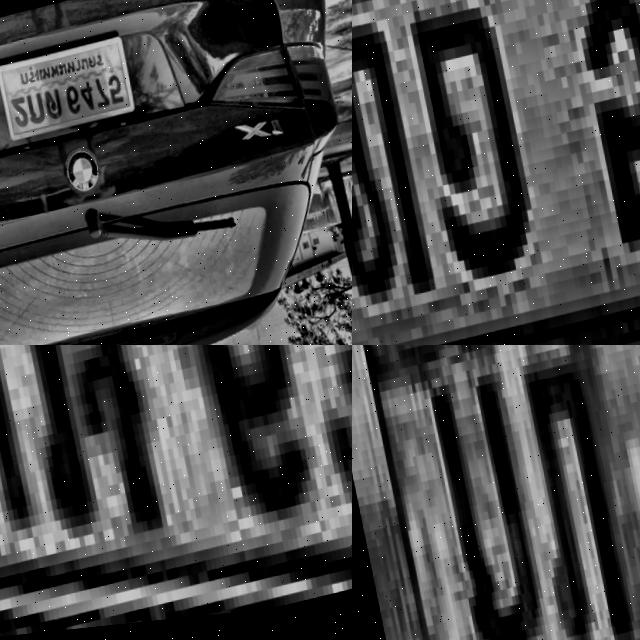license-plate: (0, 345, 352, 640), (352, 0, 640, 345), (352, 345, 640, 640), (0, 36, 134, 150)
